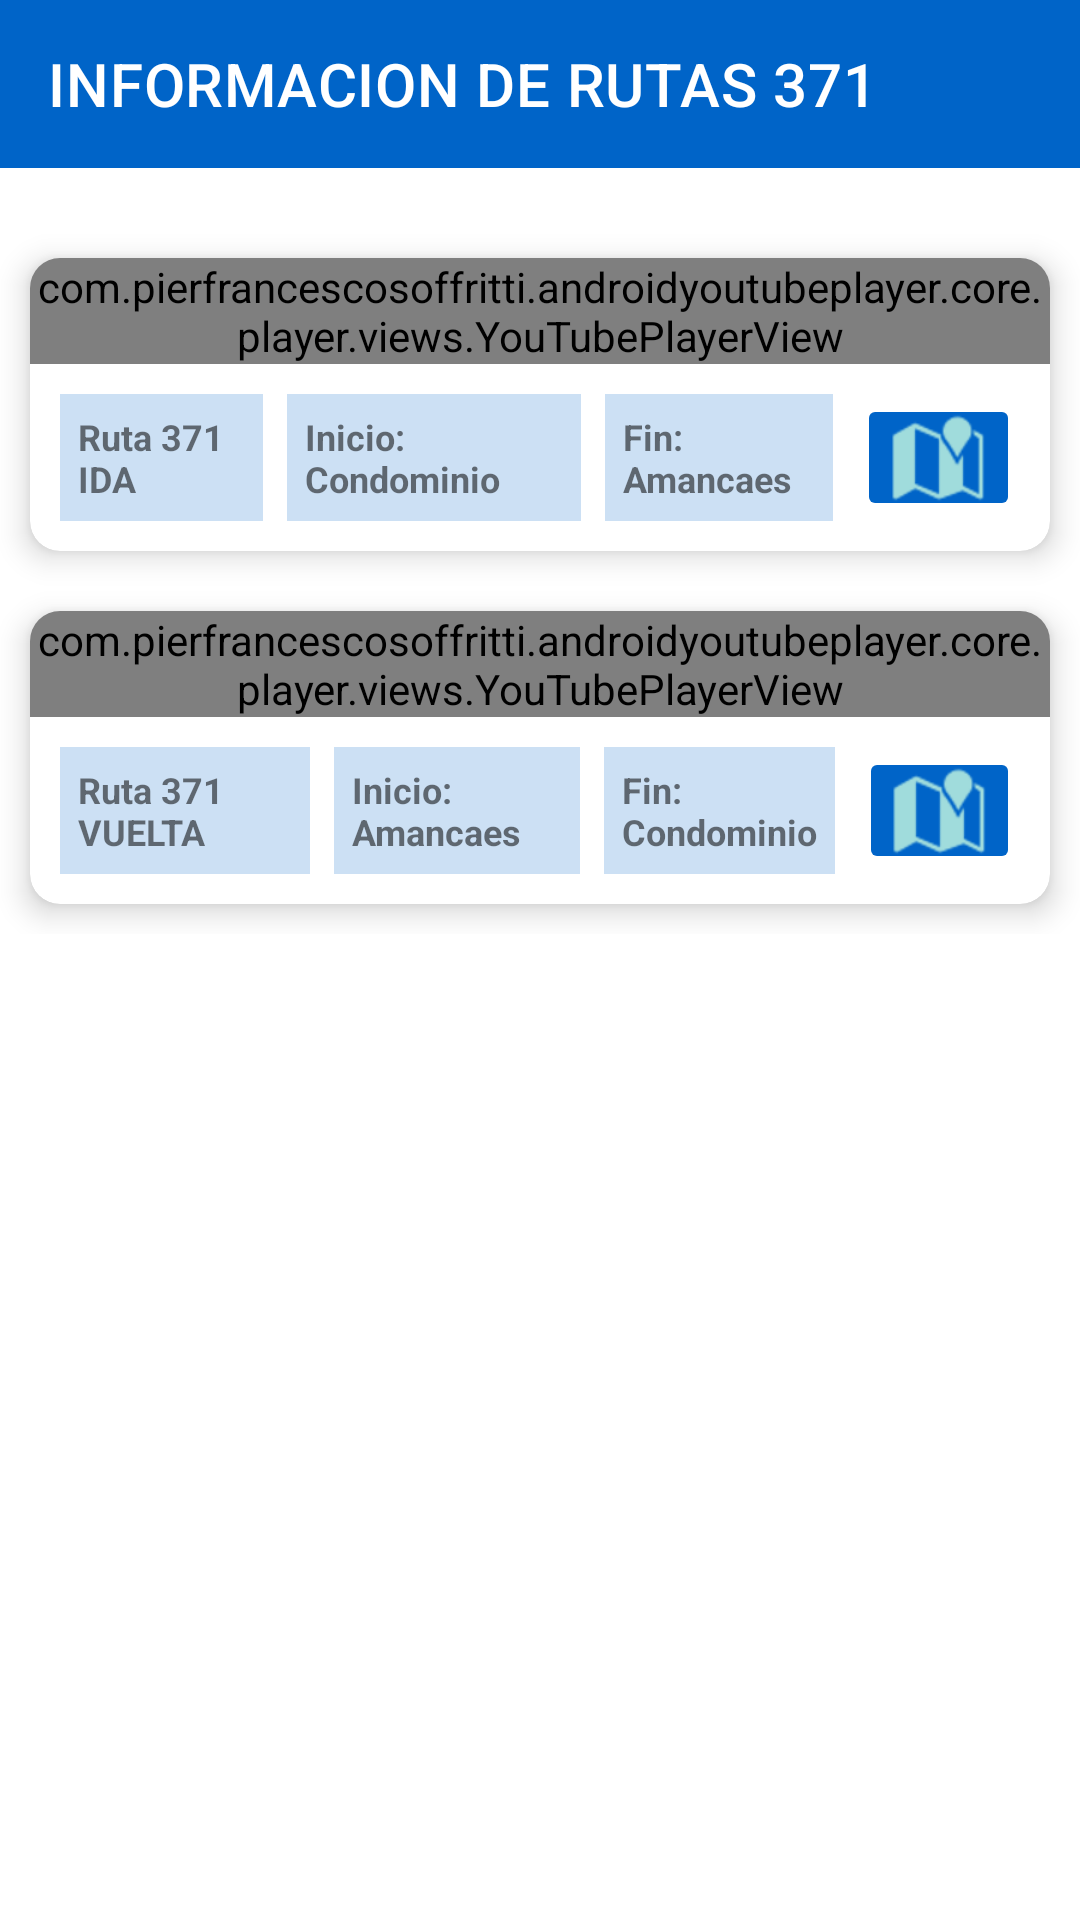

Named icons in this screenshot (1080px×1920px) and their bounding boxes, [left=x1, top=y1, right=x2, bottom=y2]:
map: [left=869, top=412, right=1008, bottom=503], [left=871, top=765, right=1008, bottom=856]
